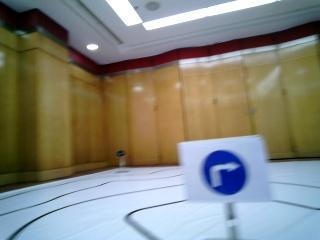right: (182, 142, 268, 201)
